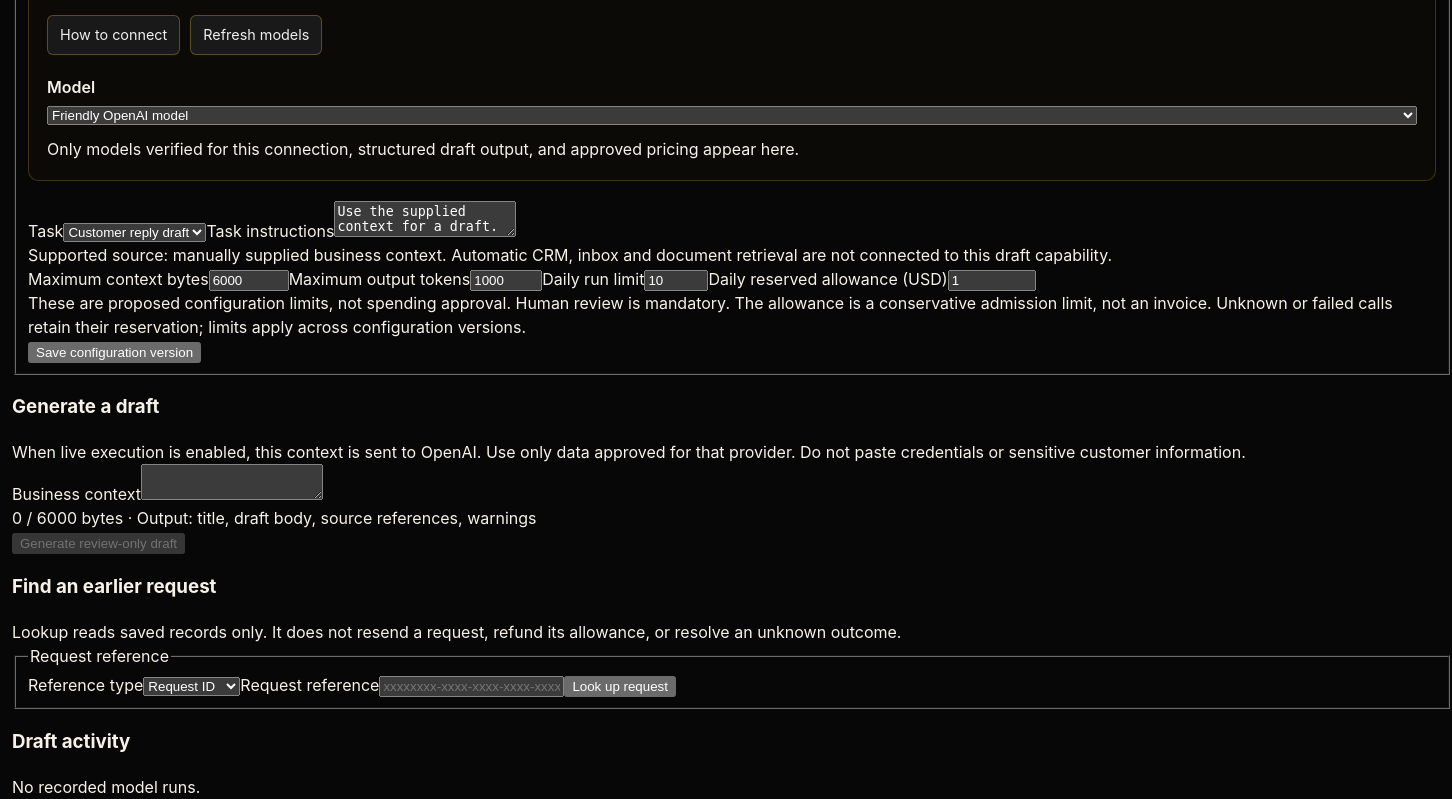
Test: uncertain run blocks provider switching and model controls while pending
This screenshot has width=1452, height=799.
(page scrolled)
Type "Synthetic context" into the text box labelled "Business context". click: [232, 482]
box: [141,464,323,500]
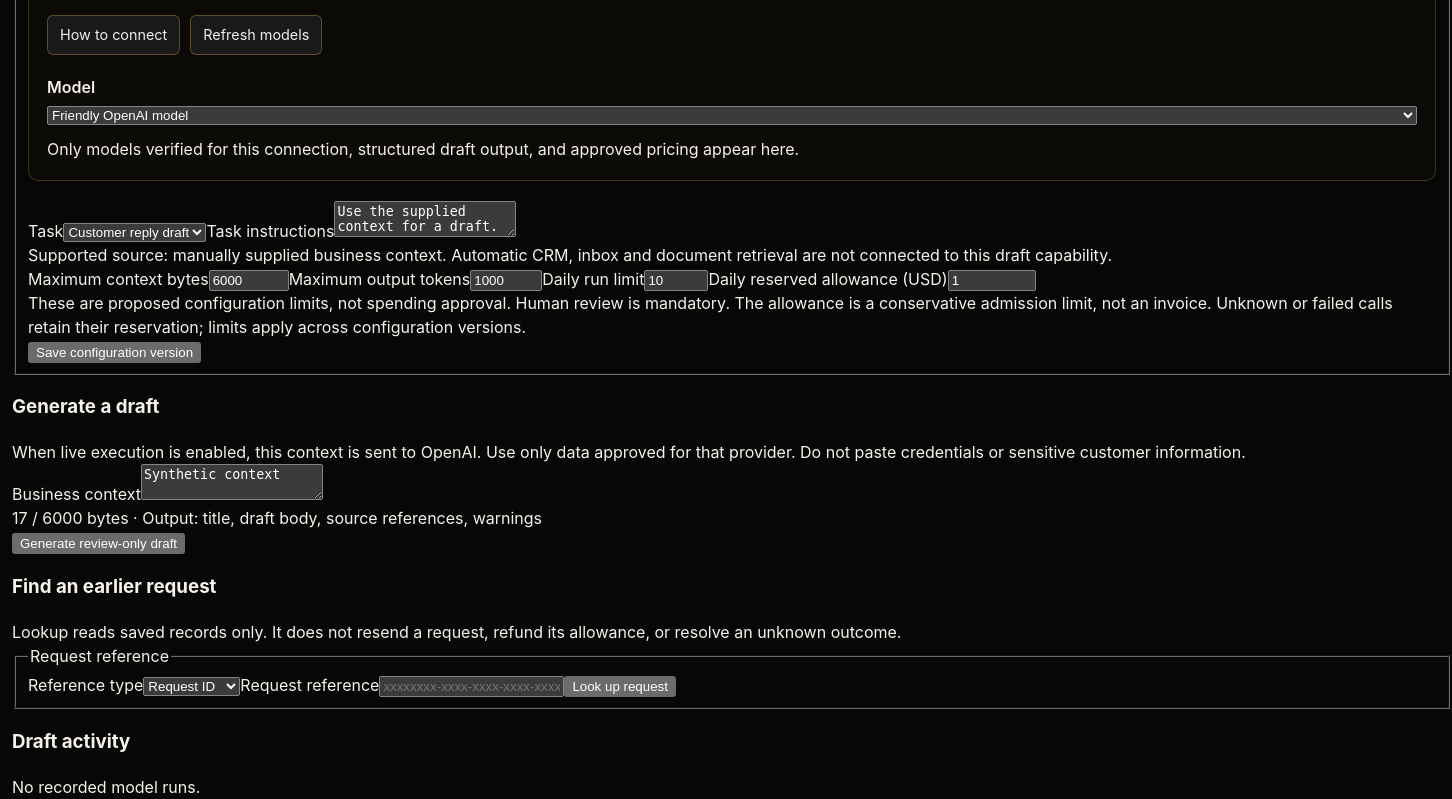
Click the button "Generate review-only draft". click: [99, 544]
box: [12,533,185,554]
(page scrolled)
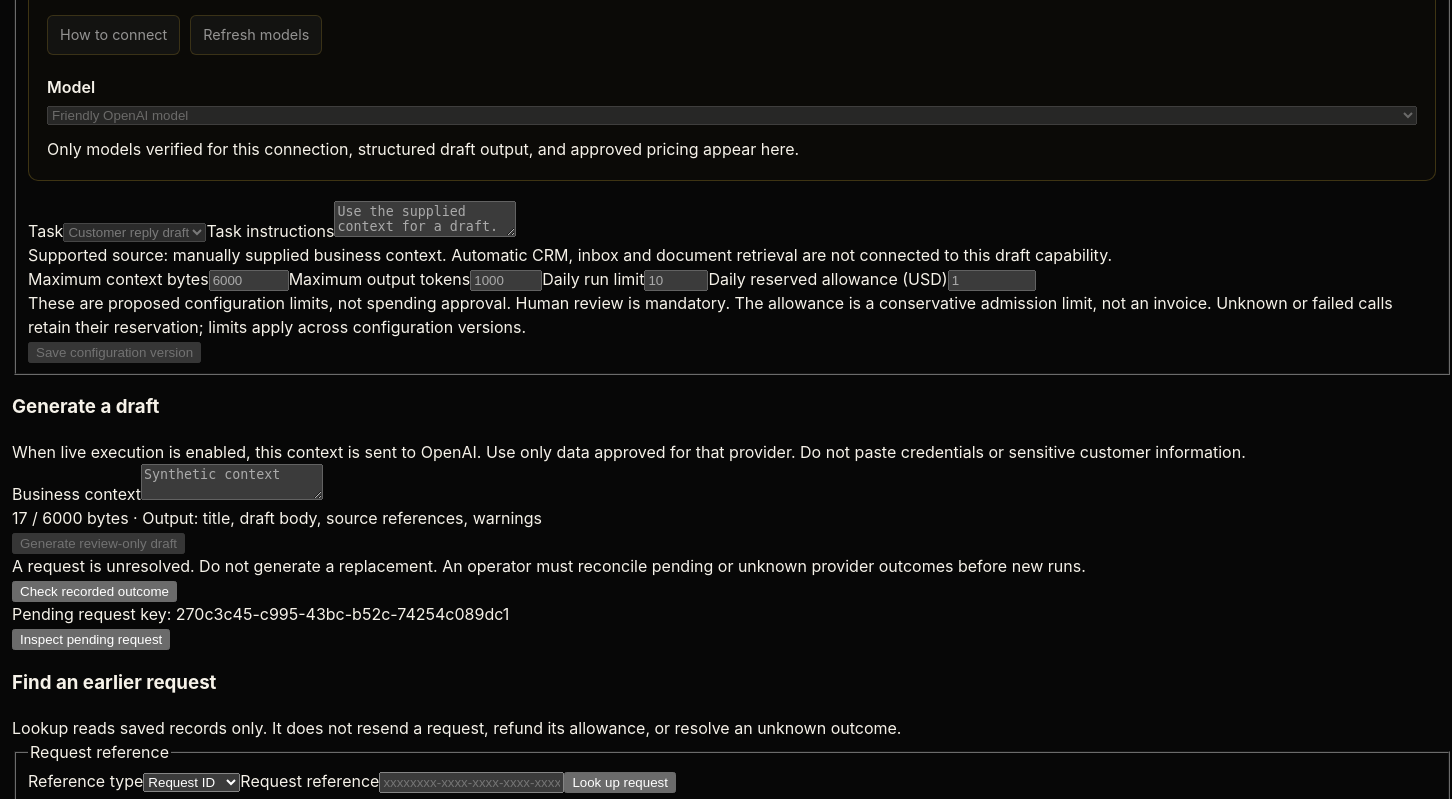
Expected: the text "A request is unresolved" is shown, [12,556,1086,576]
Expected: the button "Generate review-only draft" is disabled, [12,533,185,554]
